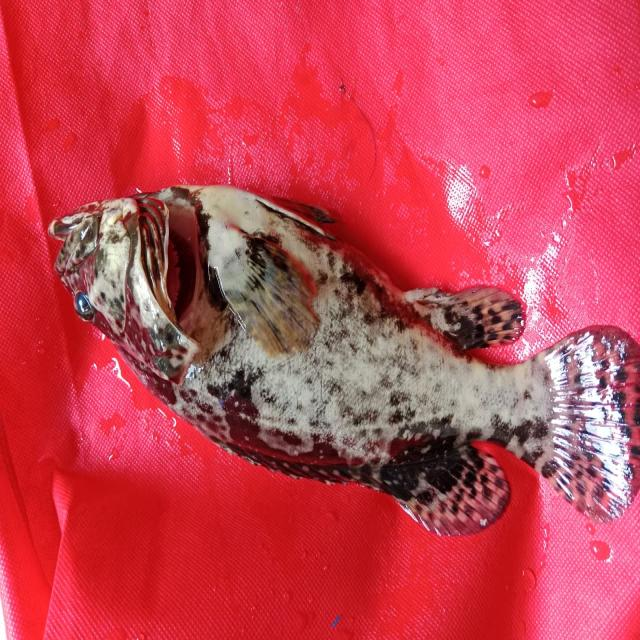ikan: (43, 117, 638, 556)
